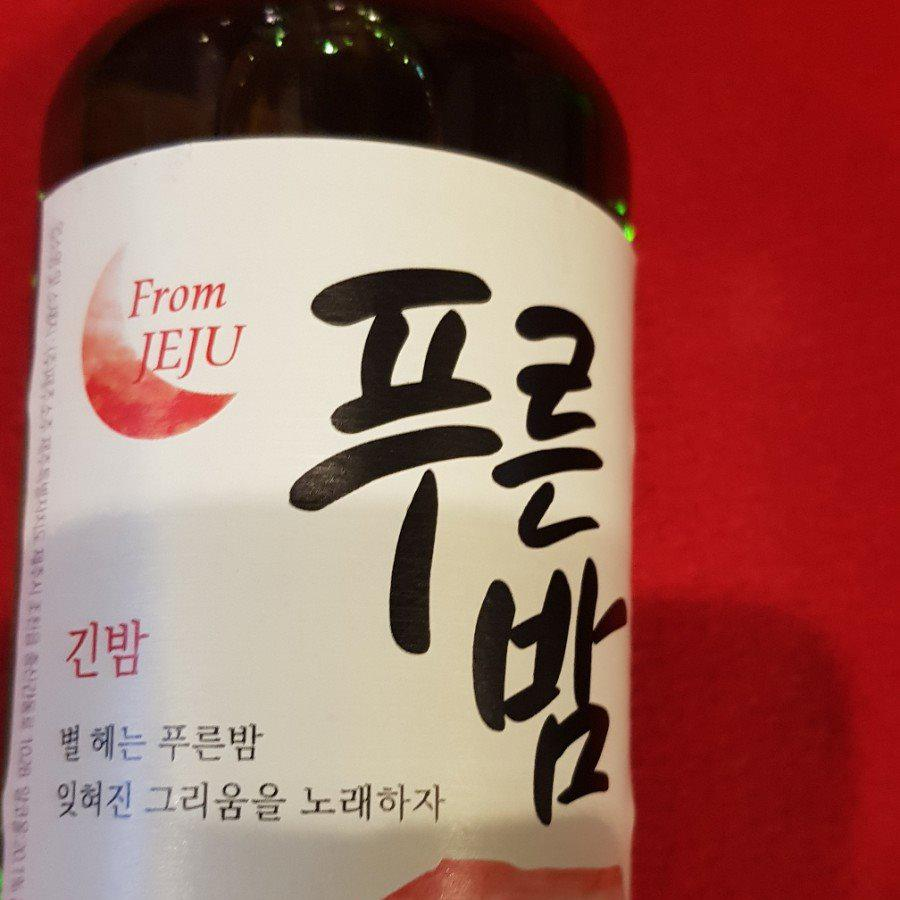soju: (19, 8, 641, 897)
